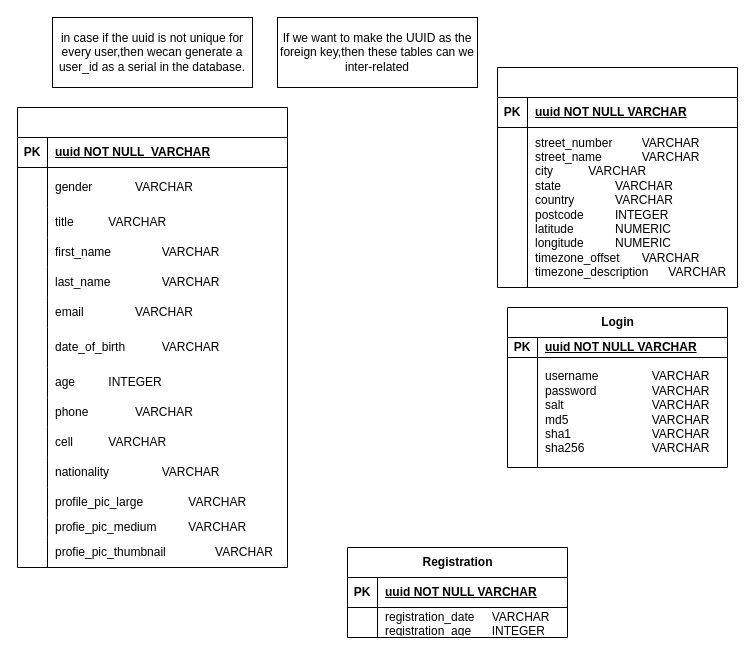
Image size: 755x655. Some labels were removed from this diagram. Each missing label, with the box of its shape:
Address: (496, 66, 738, 288)
Personal Details: (16, 106, 288, 568)
